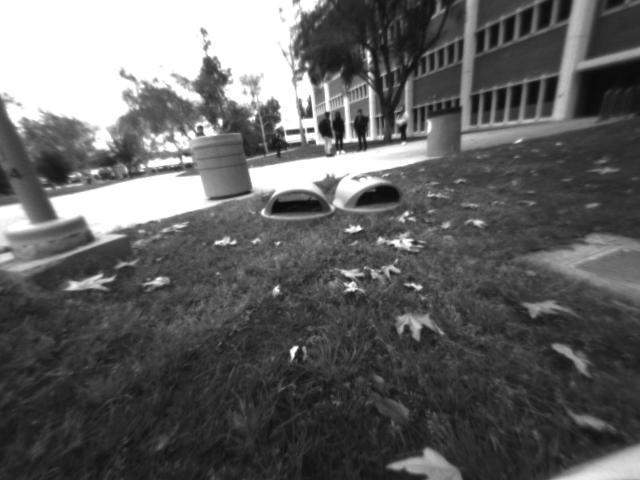trashcan: (188, 136, 260, 200), (424, 111, 465, 156)
